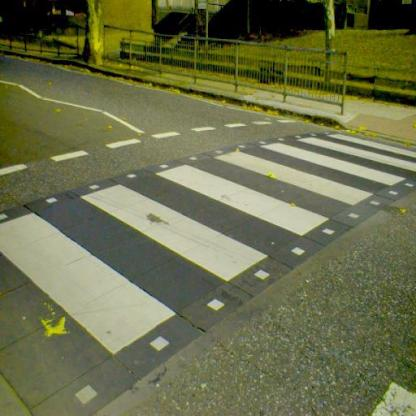crosswalk: (76, 158, 344, 288)
